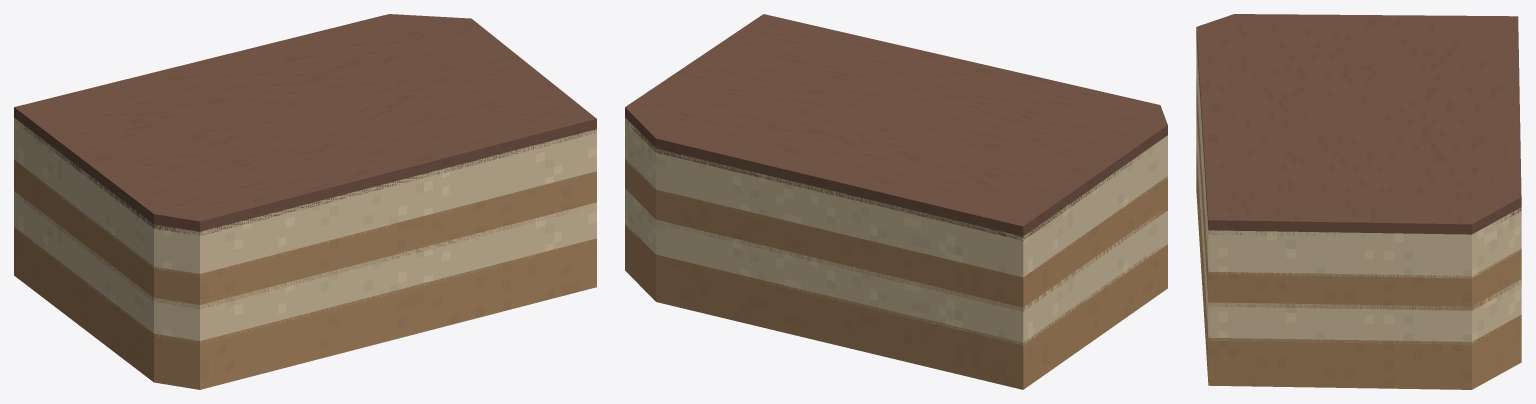
Rendered from tiramisu.glb.
The picture shows the model from 3 angles, left to right: view 1: azimuth 30°, elevation 25°; view 2: azimuth 150°, elevation 25°; view 3: azimuth 270°, elevation 25°; orthographic projection. The views are drawn at different scales.
Parts seen in each view (by area): view 1: block_tiramisu layer (×5); view 2: block_tiramisu layer (×5); view 3: block_tiramisu layer (×5).
Part boxes in pixels (box(x1,y1,x2,y2)): block_tiramisu layer (×5): box(14, 14, 596, 389); block_tiramisu layer (×5): box(625, 14, 1167, 389); block_tiramisu layer (×5): box(1196, 14, 1521, 389).
Bounding box in the file's own units: 0.1197 × 0.0439 × 0.0782.
1 material, 1 textured.
